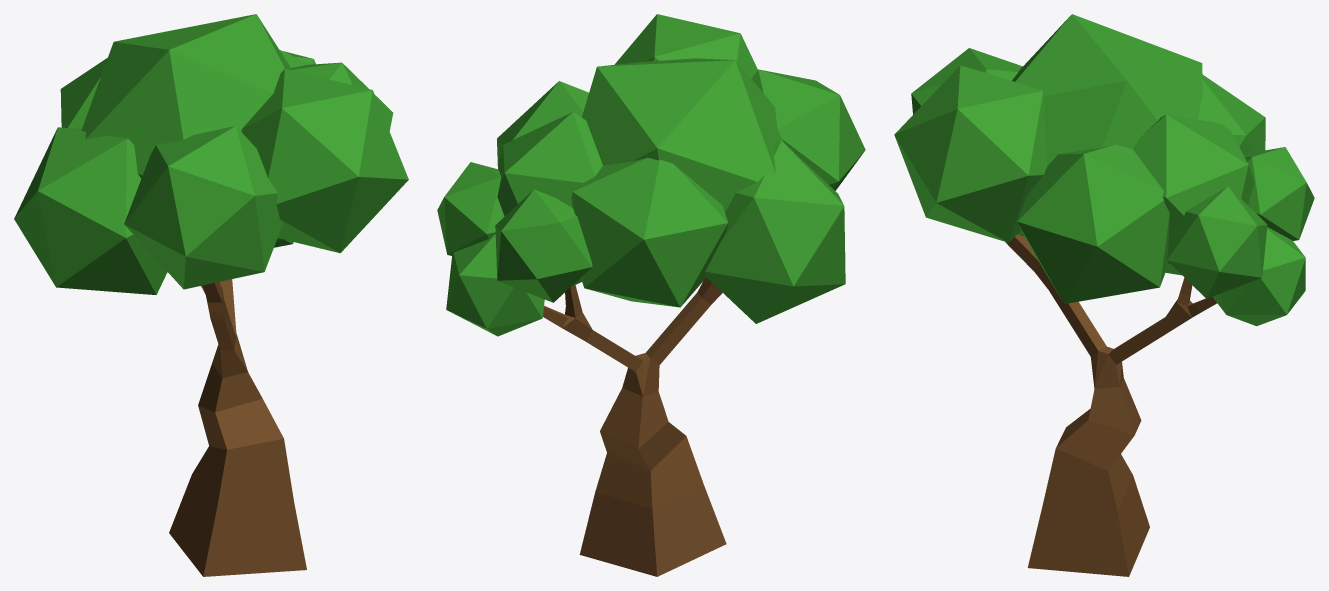
File: tree2.fbx
The picture shows the model from 3 angles, left to right: view 1: azimuth 30°, elevation 25°; view 2: azimuth 150°, elevation 25°; view 3: azimuth 270°, elevation 25°; orthographic projection. The views are drawn at different scales.
Parts seen in each view (by area): view 1: Tree1, Icosphere.009, Icosphere.002, Icosphere.003, Icosphere.008, Icosphere.007, Icosphere.006; view 2: Tree1, Icosphere.002, Icosphere.007, Icosphere.008, Icosphere.005, Icosphere.003, Icosphere.001, Icosphere, Icosphere.009, Icosphere.004, Icosphere.006; view 3: Tree1, Icosphere.009, Icosphere.006, Icosphere.002, Icosphere.001, Icosphere.004, Icosphere, Icosphere.005, Icosphere.007, Icosphere.003.
Part boxes in pixels (x1,y1,x2,y2): Tree1: (169, 279, 306, 576); Icosphere.009: (241, 69, 408, 253); Icosphere.002: (81, 14, 293, 247); Icosphere.003: (124, 126, 283, 289); Icosphere.008: (14, 127, 167, 294); Icosphere.007: (60, 58, 107, 128); Icosphere.006: (291, 62, 393, 130); Tree1: (543, 277, 726, 576); Icosphere.002: (582, 58, 783, 212); Icosphere.007: (571, 157, 728, 307); Icosphere.008: (704, 140, 845, 323); Icosphere.005: (495, 189, 592, 302); Icosphere.003: (751, 69, 865, 190); Icosphere.001: (497, 112, 602, 286); Icosphere: (446, 233, 544, 336); Icosphere.009: (614, 14, 757, 78); Icosphere.004: (437, 162, 504, 255); Icosphere.006: (497, 81, 588, 168); Tree1: (1005, 234, 1216, 576); Icosphere.009: (894, 65, 1046, 242); Icosphere.006: (1017, 144, 1169, 303); Icosphere.002: (1012, 14, 1202, 236); Icosphere.001: (1133, 114, 1254, 275); Icosphere.004: (1167, 186, 1267, 298); Icosphere: (1212, 227, 1305, 326); Icosphere.005: (1243, 147, 1314, 240); Icosphere.007: (1197, 75, 1265, 154); Icosphere.003: (911, 48, 1022, 114).
Size of the model in its own units: 593 by 834 by 634.
